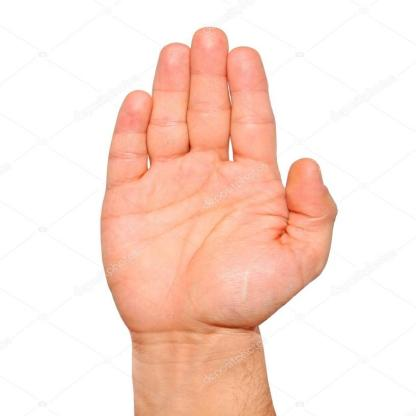palm: (101, 24, 340, 335)
